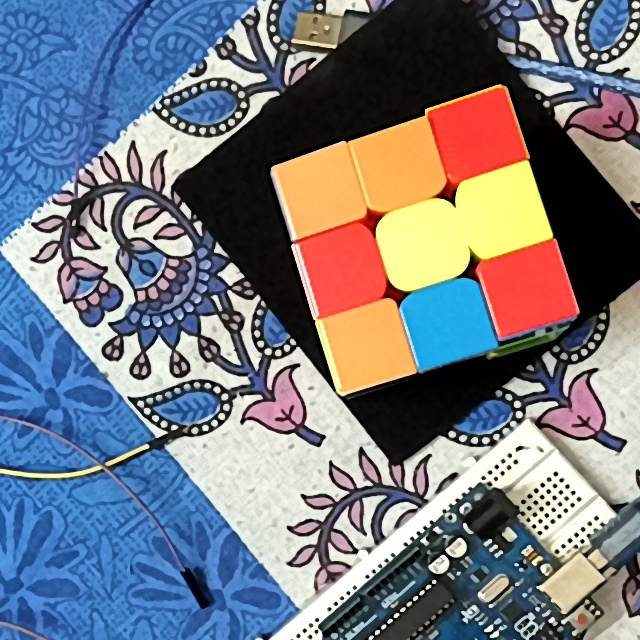tile: (469, 182, 534, 239), (335, 317, 400, 374), (495, 261, 560, 318), (447, 105, 509, 163), (312, 240, 371, 300), (369, 138, 430, 196), (390, 217, 454, 272), (289, 166, 354, 220), (418, 294, 478, 352)
